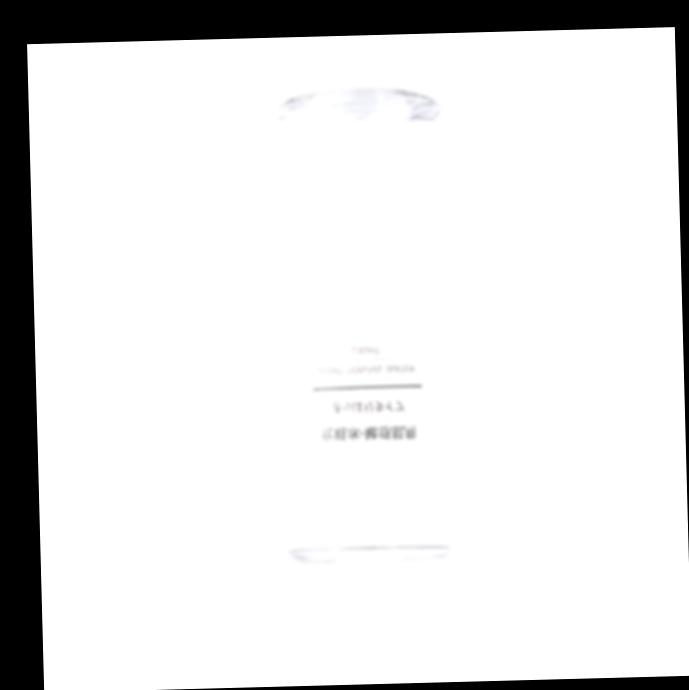cosmetic: (273, 91, 457, 629)
